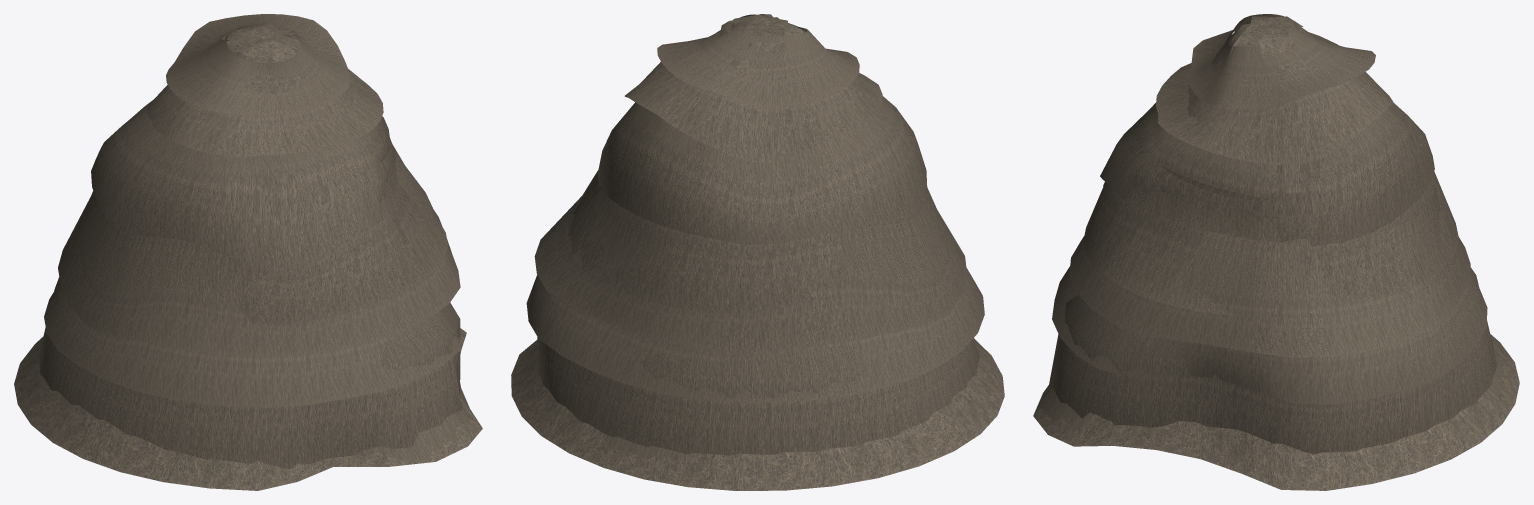
The model's file is SM_Hay01.fbx.
3 renders of one model, left to right at view 1: azimuth 30°, elevation 25°; view 2: azimuth 150°, elevation 25°; view 3: azimuth 270°, elevation 25°, orthographic.
Visible parts, largest first — view 1: SM_Hay01_LOD0; view 2: SM_Hay01_LOD0; view 3: SM_Hay01_LOD0.
Boxes of the visible parts, x1=… form: SM_Hay01_LOD0: x1=14, y1=14, x2=482, y2=490; SM_Hay01_LOD0: x1=511, y1=14, x2=1004, y2=490; SM_Hay01_LOD0: x1=1033, y1=14, x2=1519, y2=490.
Bounding box in the file's own units: 335 × 331 × 272.
